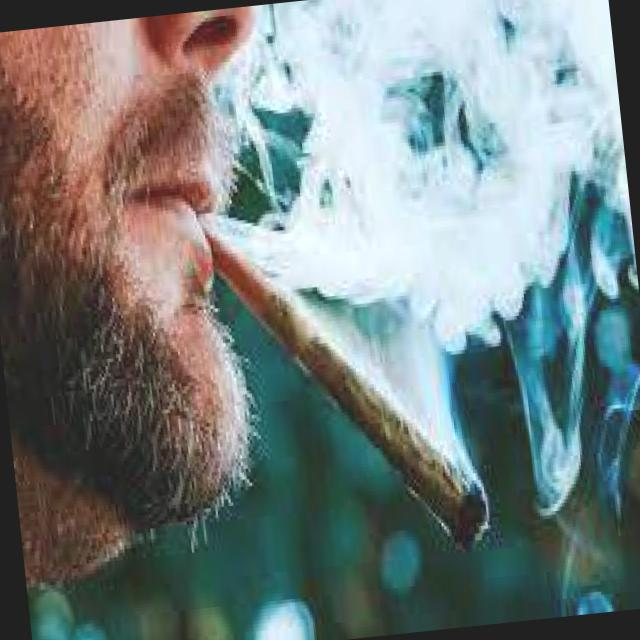smoke: (194, 173, 495, 576)
